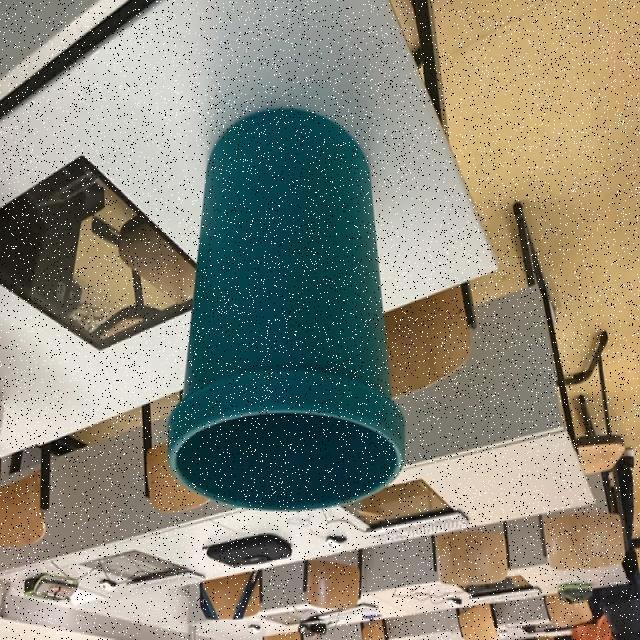garbage container: (137, 90, 413, 550)
